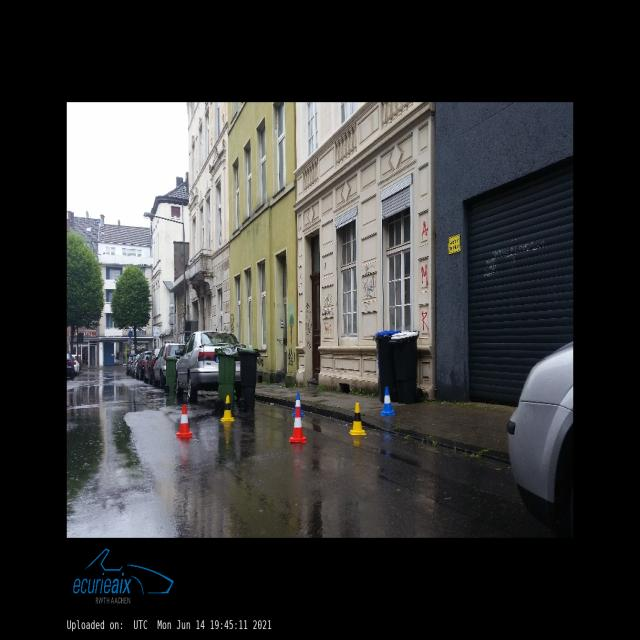blue_cone: (381, 387, 395, 416), (292, 392, 305, 417)
orange_cone: (290, 407, 306, 442), (176, 404, 192, 437)
yellow_cone: (350, 403, 366, 435), (220, 395, 234, 421)
